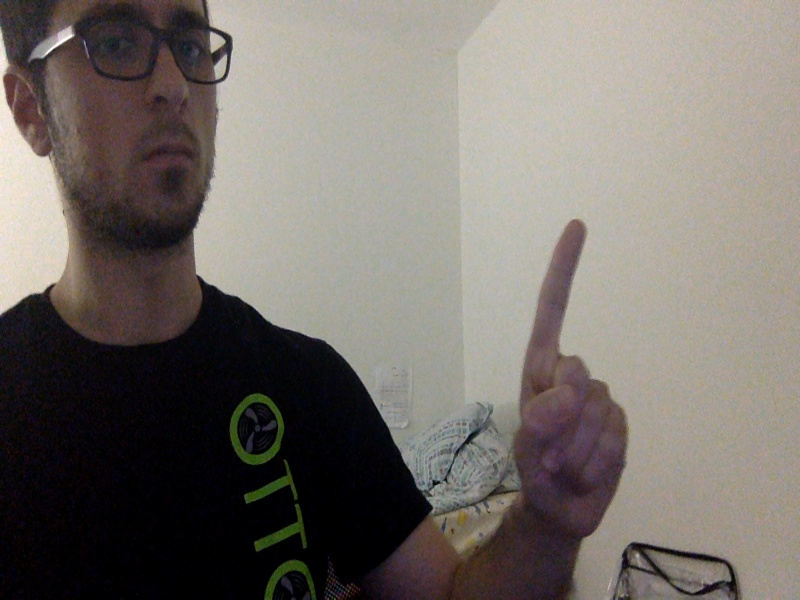1-hand: (513, 218, 629, 529)
